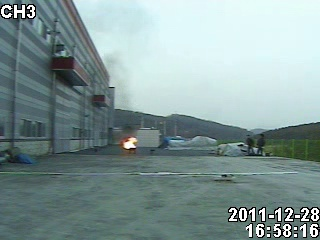fire: (122, 138, 143, 150)
smoke: (97, 63, 141, 134)
